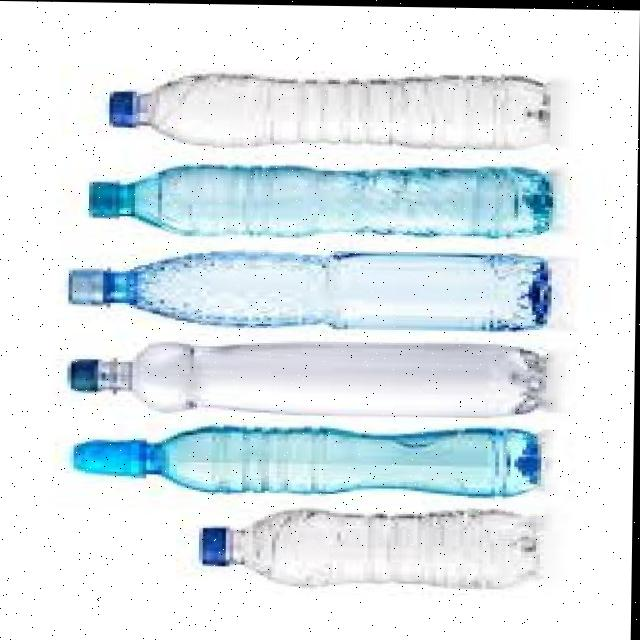bottle: (90, 43, 573, 159), (44, 325, 584, 425), (187, 498, 538, 604)
